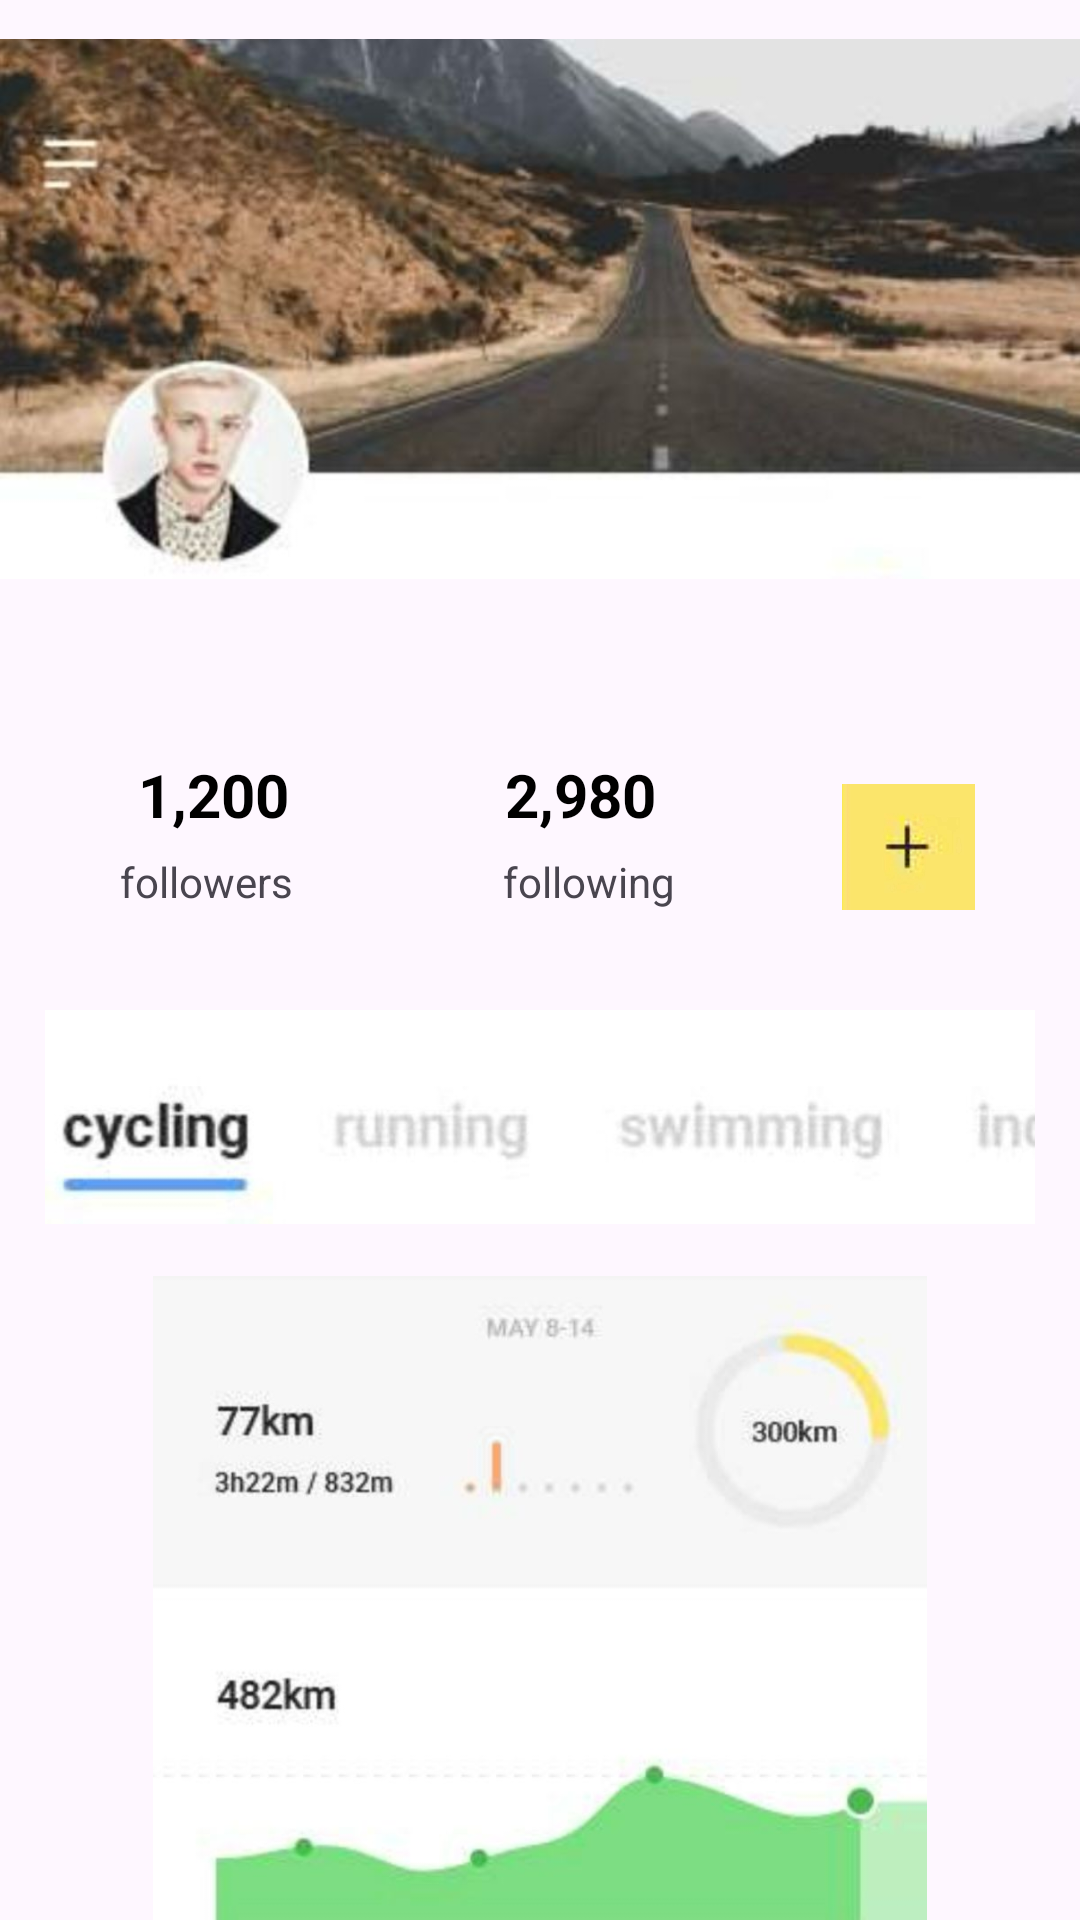

Screen size 1080px×1920px. Icon name, then its box in pixels as (x1, y1, x2, y2):
plusyellow: (842, 784, 975, 910)
